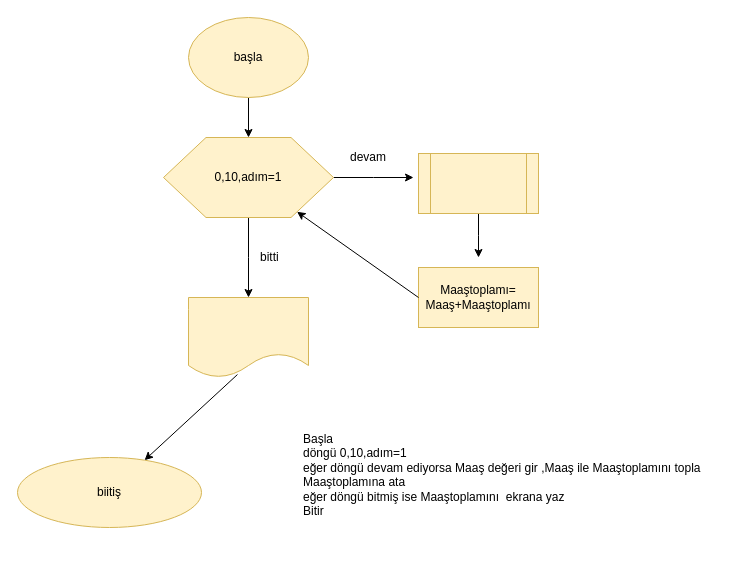
Image size: 746x579. Some labels were removed from this diagram. The centre of each missing label's shape, as x and y in pixels:
maaş gir: the point at 478,183
Maaştoplamı: the point at 248,337
